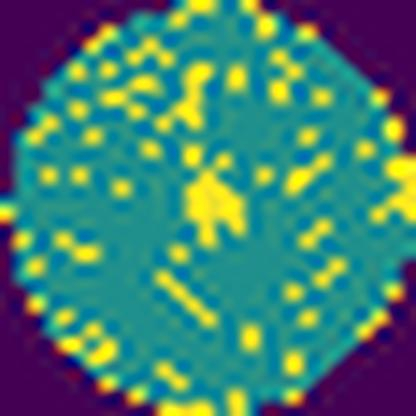Center: (172, 145, 252, 251)
